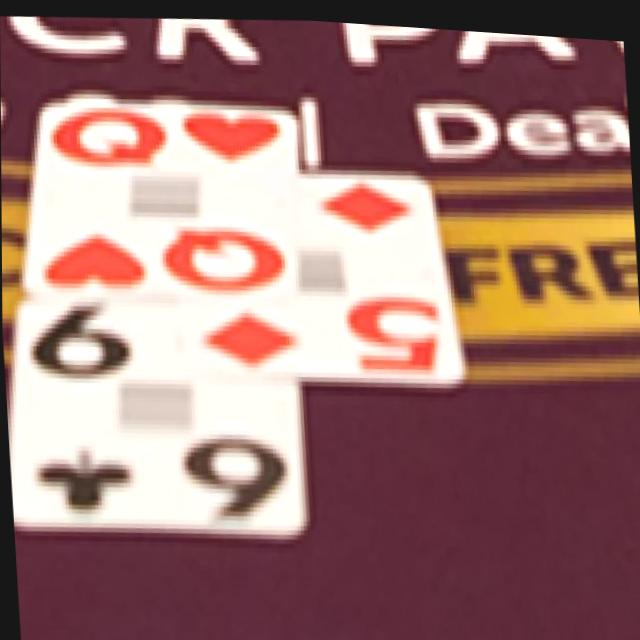Card-5: (194, 169, 464, 377)
Card-6: (13, 299, 298, 538)
Card-Q: (29, 101, 294, 299)
